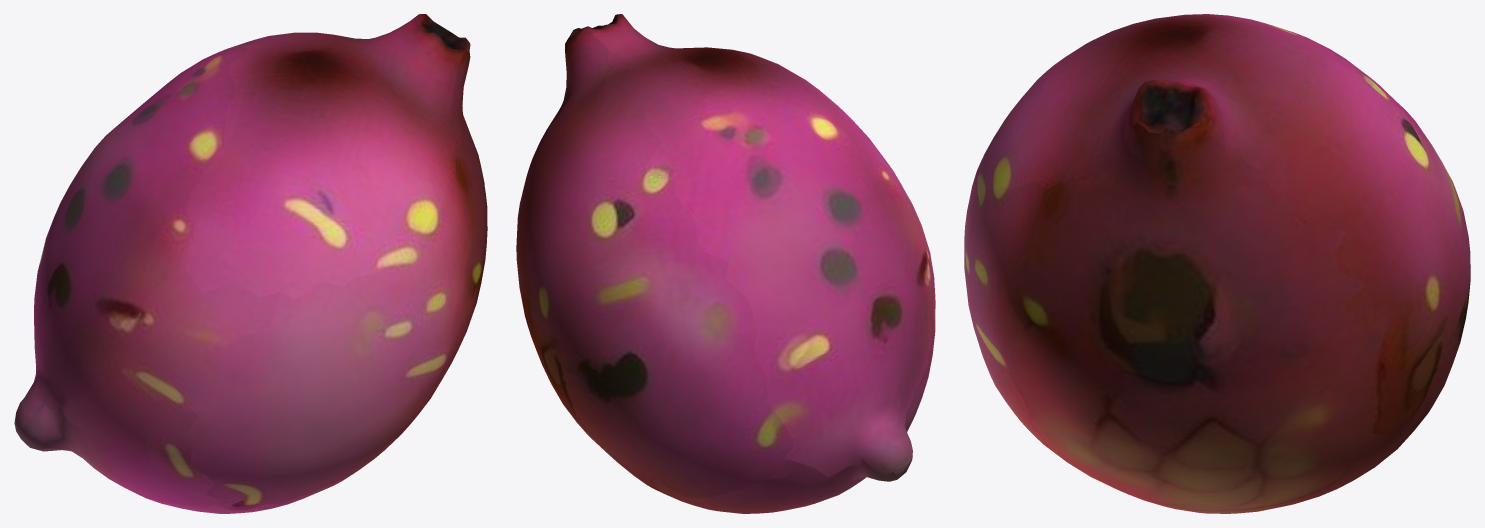
File: sweetpotato.glb
3 renders of one model, left to right at view 1: azimuth 30°, elevation 25°; view 2: azimuth 150°, elevation 25°; view 3: azimuth 270°, elevation 25°, orthographic. The views are drawn at different scales.
Parts seen in each view (by area): view 1: sweetpotato; view 2: sweetpotato; view 3: sweetpotato.
Boxes of the visible parts, bbox=[...] form: sweetpotato: bbox=[14, 14, 487, 513]; sweetpotato: bbox=[516, 14, 935, 513]; sweetpotato: bbox=[964, 14, 1470, 513].
Bounding box in the file's own units: 0.983 × 1 × 0.9016.
Materials: 1 (1 with a texture image).
